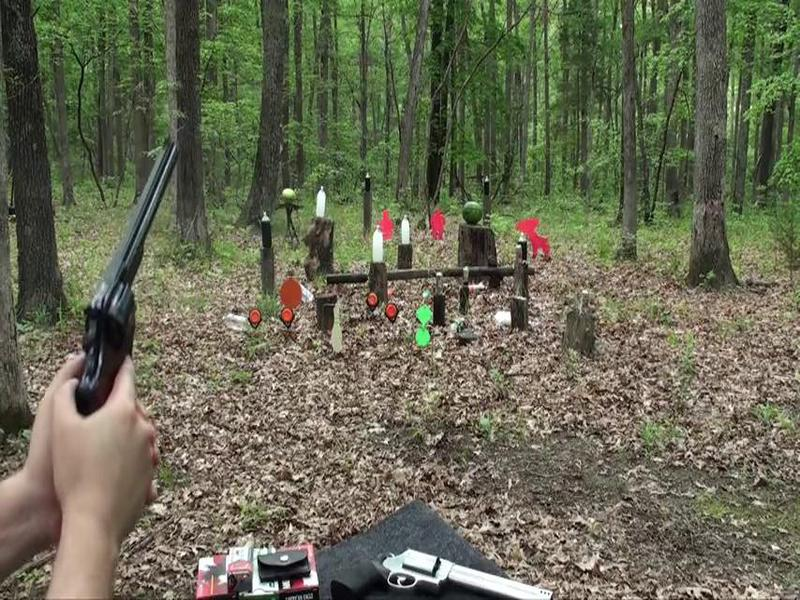Revolver: (62, 129, 188, 434)
